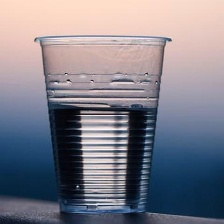glass: (26, 30, 173, 220)
